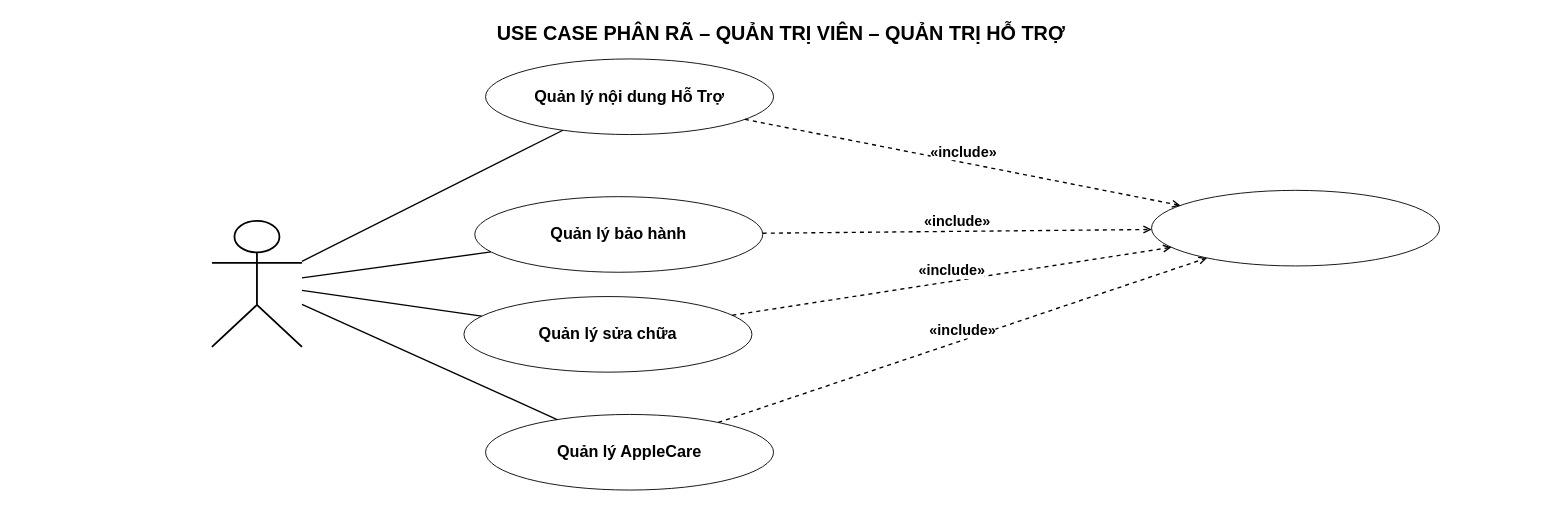
Image size: 1561x506. Some labels were removed from this diagram. The shapes that lost their labels are listed below. From the top down, each one's box as (x1, y1, x2, y2) in pixels, then its label:
(1151, 189, 1440, 266): Đăng nhập quản trị
(211, 220, 302, 347): Quản trị viên
